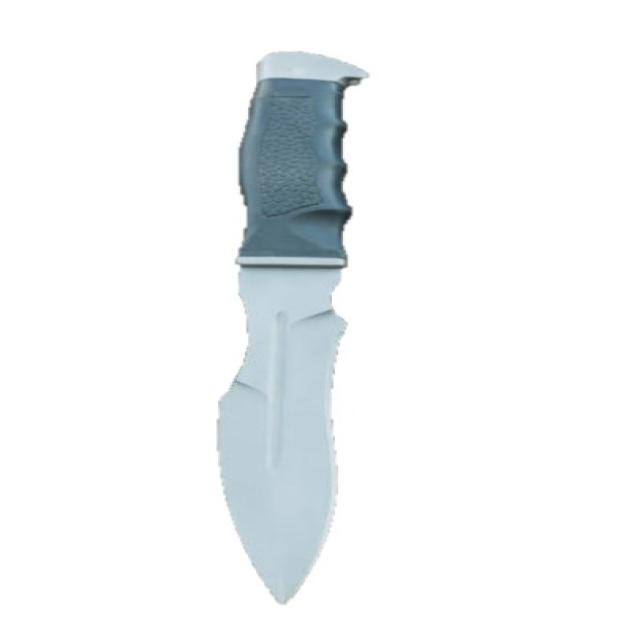knife: (198, 28, 406, 623)
